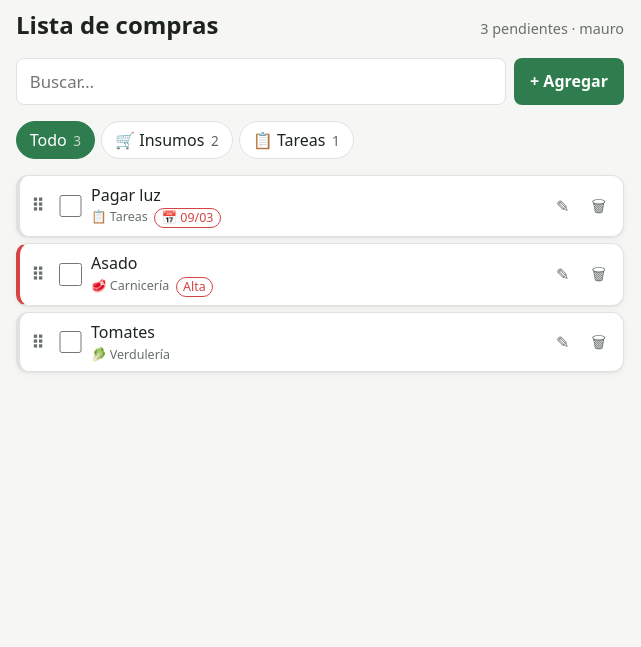
Test case: App › si no se puede guardar la edición, el formulario queda abierto con el aviso
The width and height of the screenshot is (641, 647).
Check: the text "Asado" is shown, box [91, 252, 137, 274]
Click the button named "Editar Asado" at (563,274), box [545, 256, 581, 292]
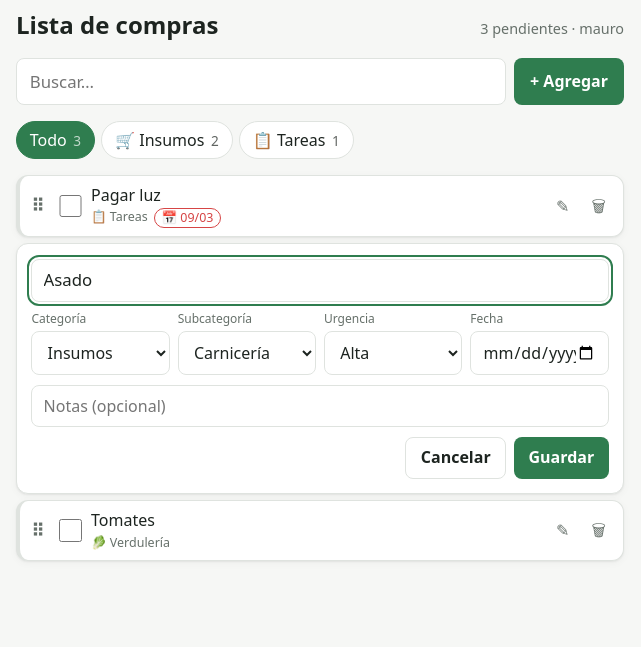
Click the button "Guardar" at (561,458), box [514, 436, 609, 478]
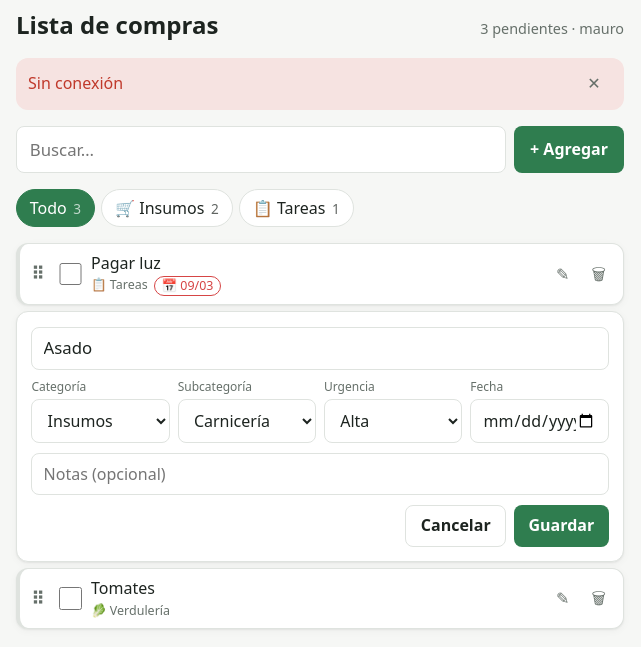
Check: the button "Guardar" is shown, box [514, 504, 609, 546]
Check: the message shows "Sin conexión", box [28, 72, 123, 94]
